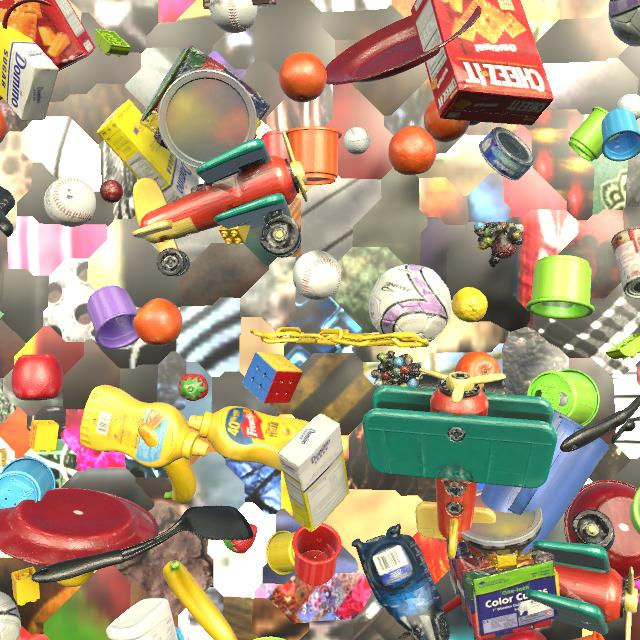ycb_003_cracker_box: (411, 0, 554, 126), (0, 0, 96, 100)
ycb_004_sugar_box: (97, 99, 199, 203), (278, 414, 350, 532), (0, 22, 59, 121)
ycb_005_tomato_soup_can: (611, 226, 640, 298)
ycb_006_mustard_bottle: (80, 385, 210, 468), (188, 406, 308, 471)
ycb_007_tuna_fish_can: (479, 127, 534, 181)
ycb_008_pudding_box: (203, 0, 276, 10)
ycb_011_banana: (163, 561, 237, 640), (138, 423, 196, 504)
ycb_012_strawberry: (223, 523, 257, 553), (178, 373, 209, 401)
ycb_013_apple: (11, 354, 64, 401), (500, 629, 546, 640)
ycb_014_lemon: (452, 287, 488, 323), (57, 571, 94, 587)
ycb_017_orange: (279, 52, 327, 103), (388, 125, 436, 175), (134, 298, 183, 346), (424, 99, 470, 142), (454, 351, 501, 387), (0, 111, 7, 143)
